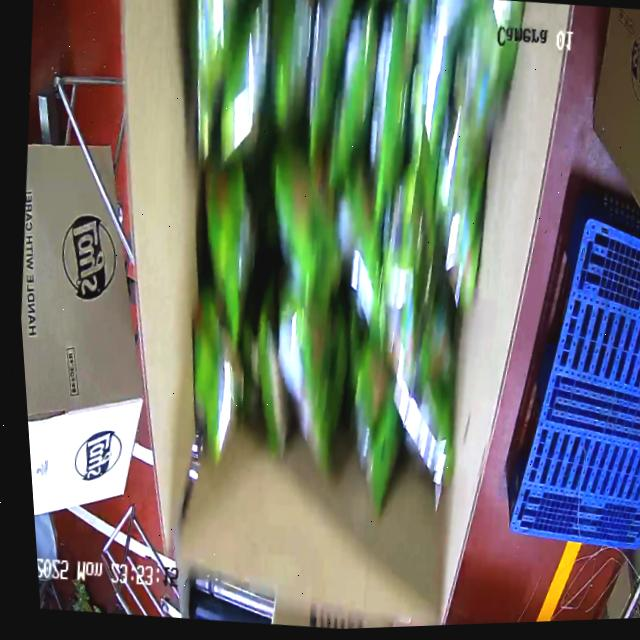YOGURT_HERB: (139, 0, 531, 515)
